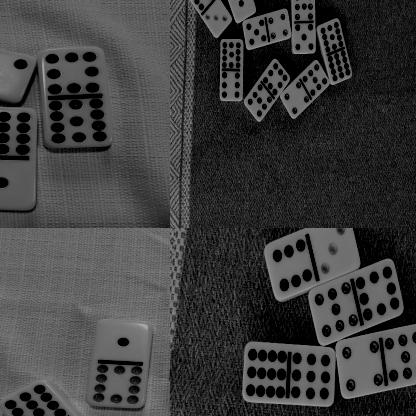pip-1: (95, 318, 152, 363), (0, 158, 36, 211), (230, 0, 257, 22)
pip-10: (88, 360, 145, 409)
pip-11: (44, 96, 113, 148), (317, 16, 344, 53), (220, 39, 244, 70)
pip-12: (243, 341, 288, 403), (1, 380, 68, 416), (0, 108, 38, 156), (329, 49, 353, 83)
pip-2: (0, 52, 36, 102)
pip-3: (310, 228, 361, 277), (205, 1, 233, 37)
pip-4: (336, 337, 384, 397), (282, 80, 310, 118), (269, 6, 292, 41)
pip-5: (243, 15, 268, 50), (292, 21, 317, 54)
pip-6: (264, 232, 314, 300), (219, 68, 244, 101), (187, 0, 214, 10)
pip-7: (309, 279, 358, 344), (384, 321, 416, 384), (244, 82, 272, 121), (303, 58, 330, 96)
pip-8: (42, 47, 108, 97), (357, 257, 405, 321), (264, 57, 291, 96)
pip-9: (289, 344, 336, 408)
